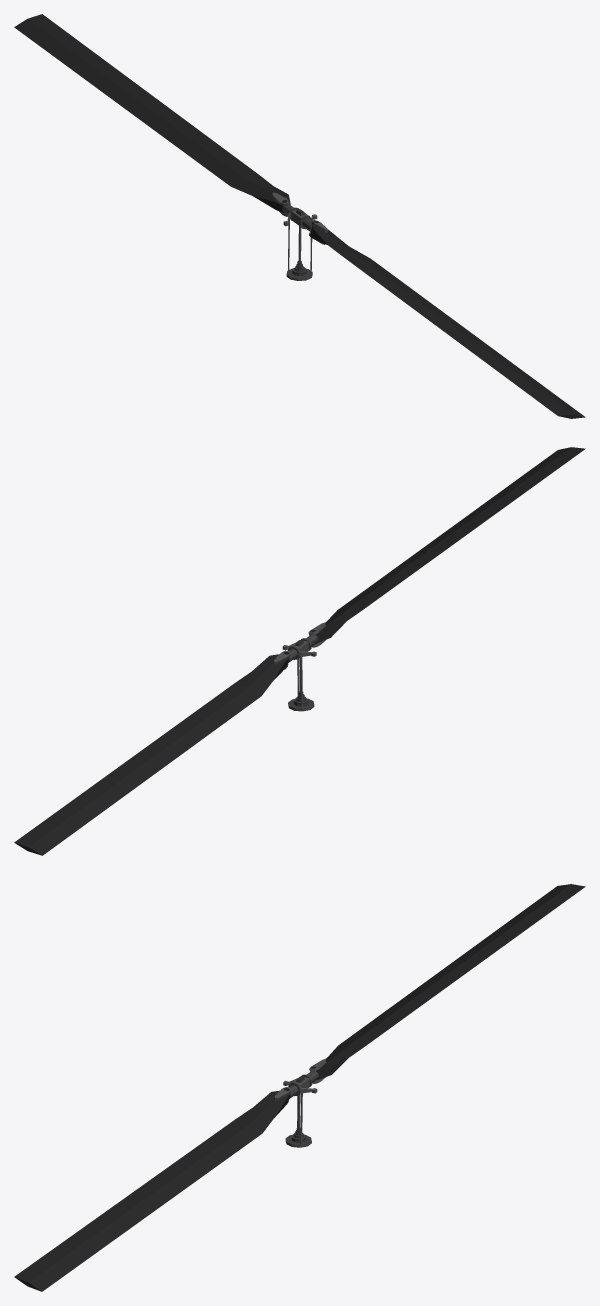
Rendered from Bell206MainRotor.fbx.
3 renders of one model, top to bottom at view 1: azimuth 30°, elevation 25°; view 2: azimuth 150°, elevation 25°; view 3: azimuth 330°, elevation 25°, orthographic.
Visible parts, largest first — view 1: Cube.007; view 2: Cube.007; view 3: Cube.007.
Boxes of the visible parts, bbox=[...] form: Cube.007: bbox=[14, 14, 585, 418]; Cube.007: bbox=[14, 447, 585, 855]; Cube.007: bbox=[14, 884, 585, 1291].
Size of the model in its own units: 0.295 by 0.5637 by 8.59.
